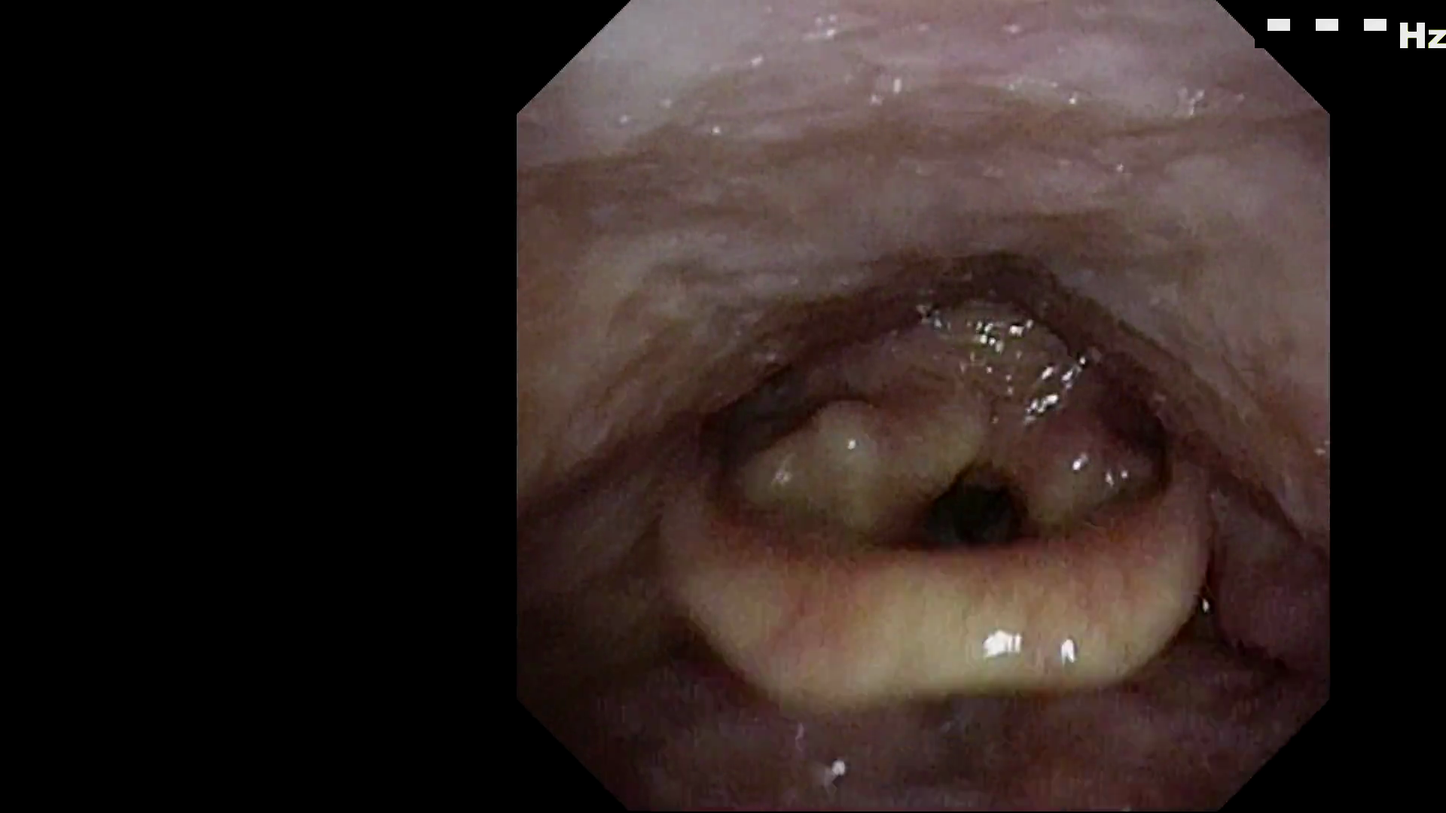epiglottis: (649, 487, 1215, 713)
trachea: (921, 500, 1008, 595)
